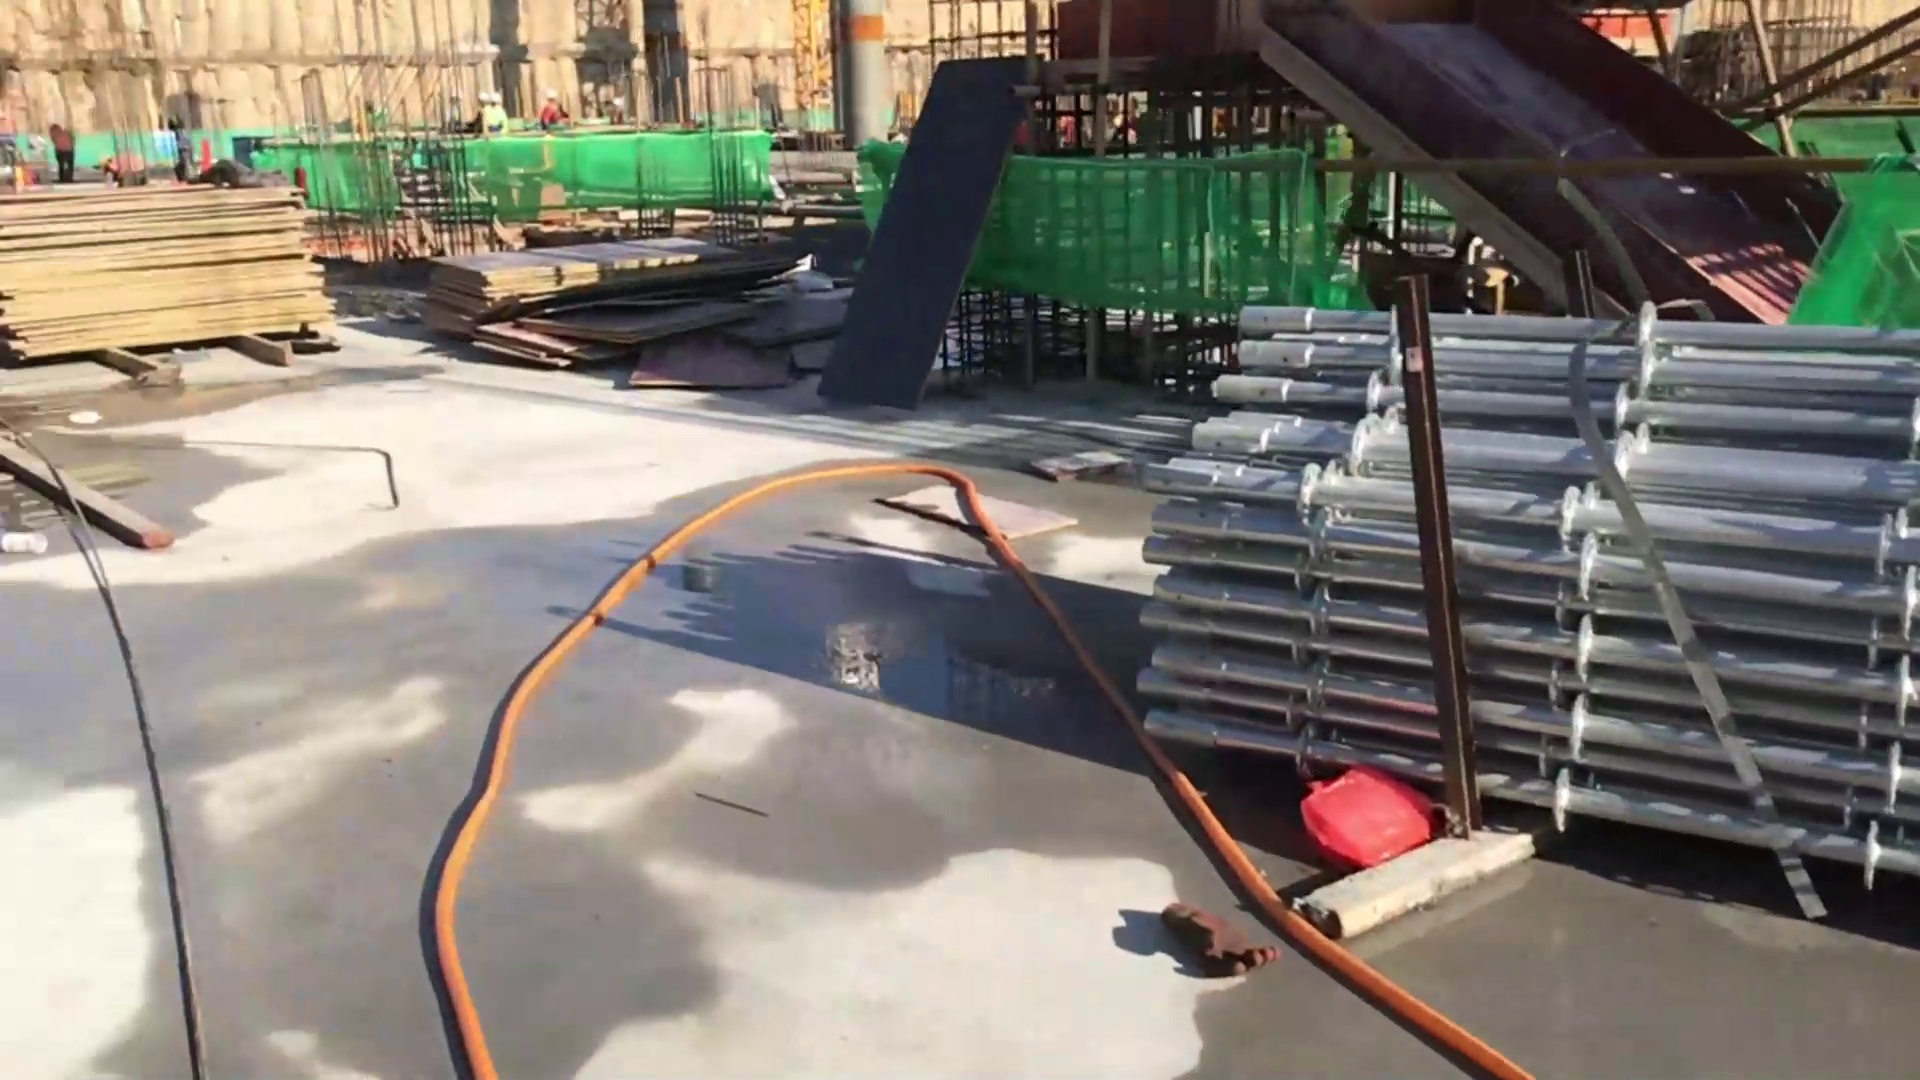board: (4, 185, 353, 342), (425, 243, 765, 331)
scaffold: (1142, 301, 1920, 877)
